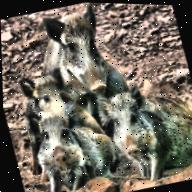boar: (93, 69, 192, 192), (34, 2, 138, 100), (17, 104, 121, 192), (12, 61, 94, 140)
